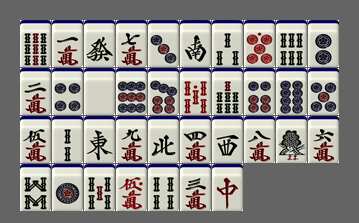0m: (116, 164, 147, 211)
0p: (244, 20, 275, 67)
0s: (180, 68, 211, 115)
1m: (52, 20, 83, 67)
1p: (52, 164, 83, 211)
1s: (276, 116, 307, 163)
1z: (84, 116, 115, 163)
2m: (20, 68, 51, 115)
2p: (308, 20, 339, 67)
2s: (52, 116, 83, 163)
2z: (180, 20, 211, 67)
3m: (180, 164, 211, 211)
3p: (148, 20, 179, 67)
3s: (212, 20, 243, 67)
3z: (212, 116, 243, 163)
4m: (180, 116, 211, 163)
4p: (52, 68, 83, 115)
4s: (148, 164, 179, 211)
4z: (148, 116, 179, 163)
5m: (20, 116, 51, 163)
5p: (308, 68, 339, 115)
5s: (84, 164, 115, 211)
5z: (84, 68, 115, 115)
6m: (308, 116, 339, 163)
6p: (244, 68, 275, 115)
6s: (276, 20, 307, 67)
6z: (84, 20, 115, 67)
7m: (116, 20, 147, 67)
7p: (148, 68, 179, 115)
7s: (212, 68, 243, 115)
7z: (212, 164, 243, 211)
8m: (244, 116, 275, 163)
8p: (276, 68, 307, 115)
8s: (20, 164, 51, 211)
9m: (116, 116, 147, 163)
9p: (116, 68, 147, 115)
9s: (20, 20, 51, 67)
